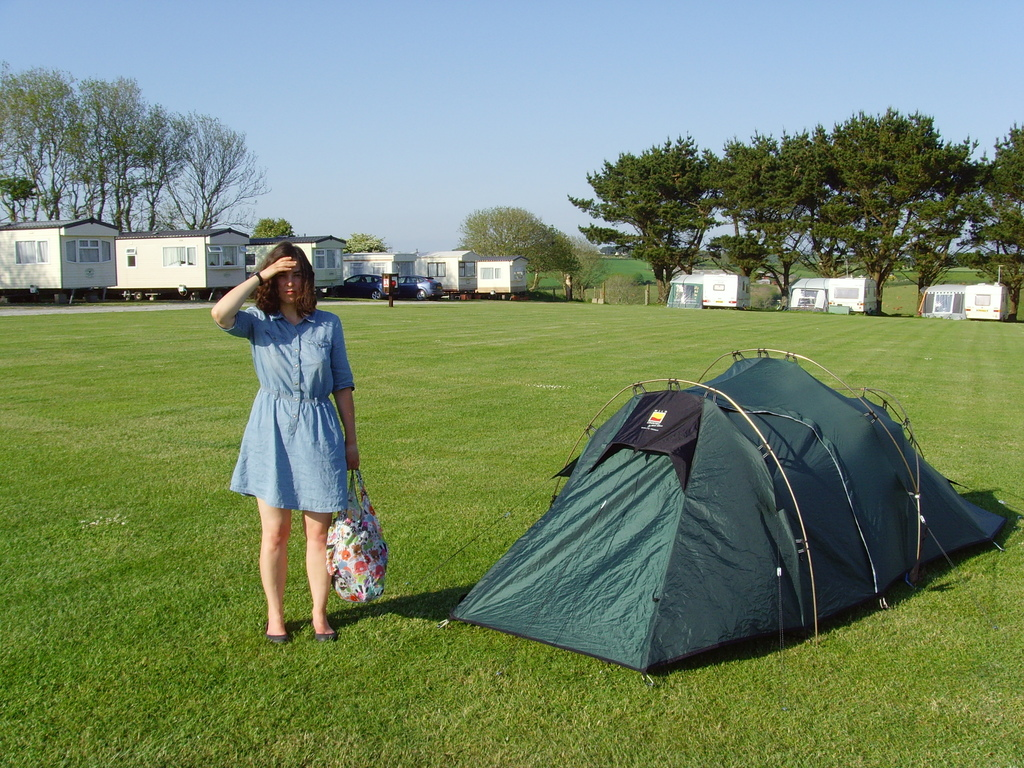Person: (211, 241, 357, 643)
